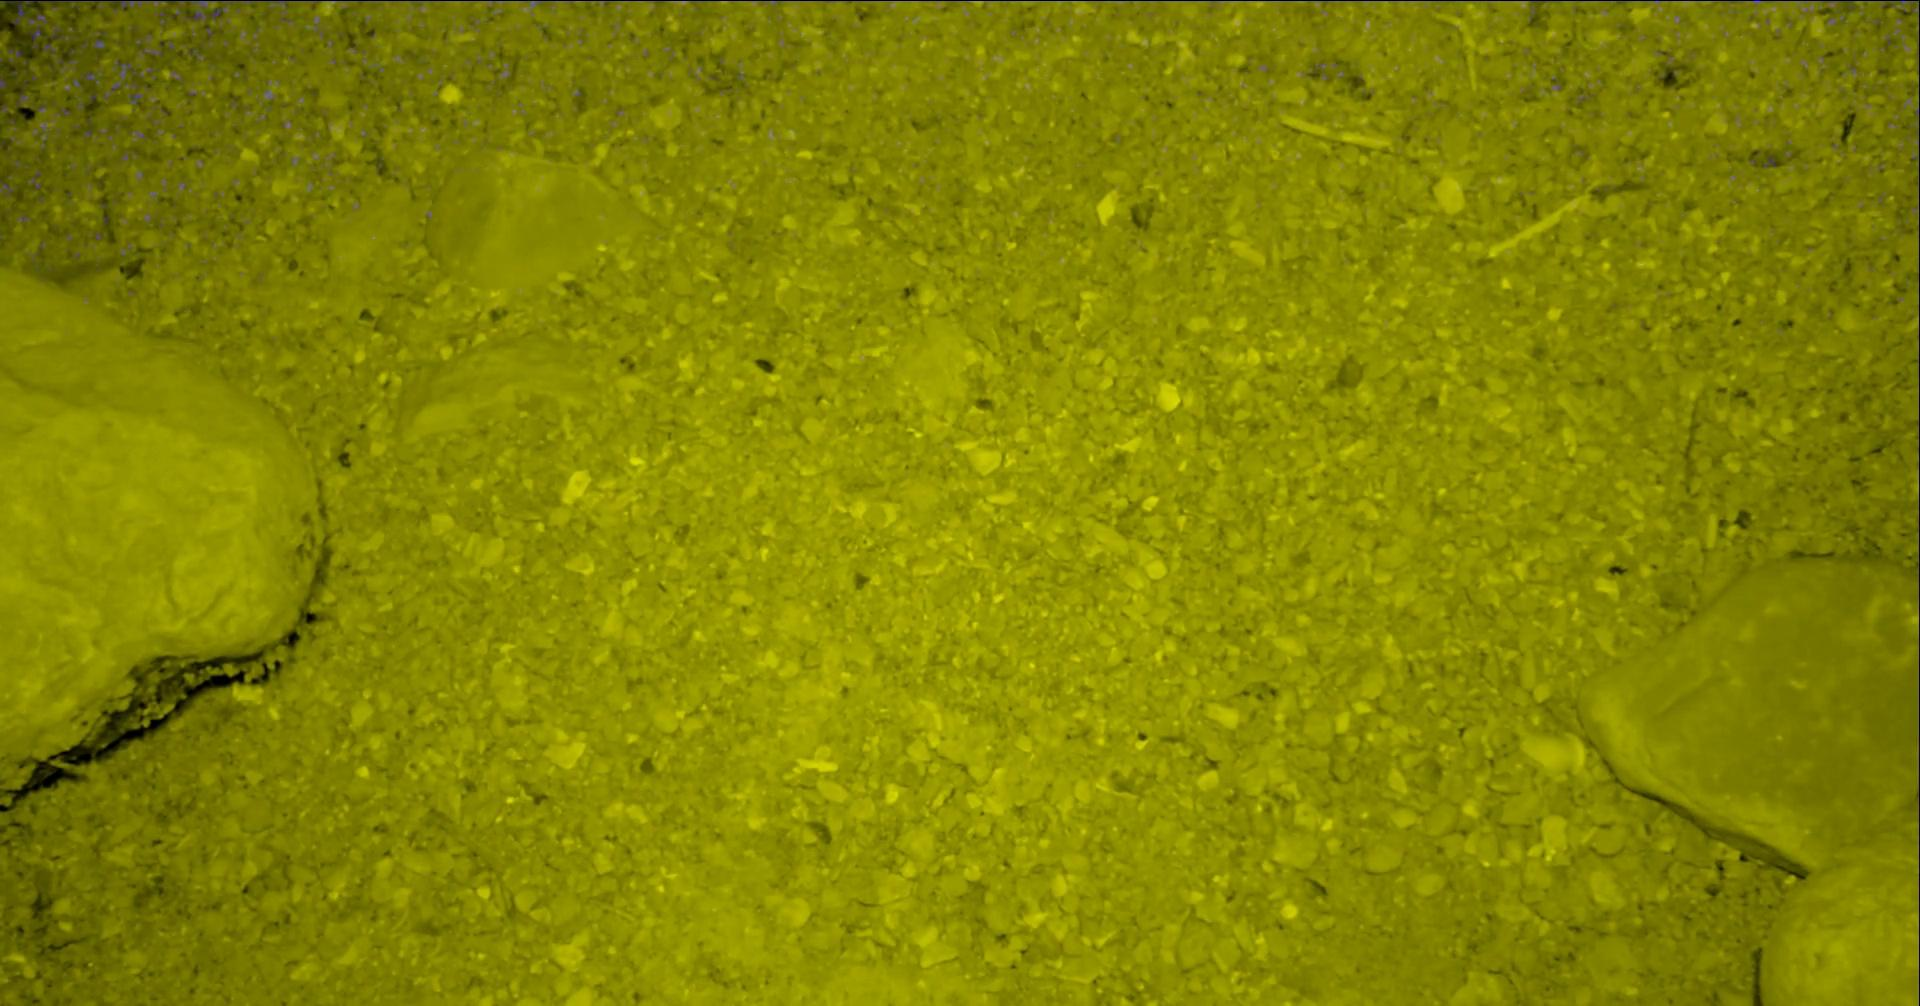ant: (105, 58, 141, 99), (1882, 0, 1920, 24), (1911, 108, 1920, 191), (30, 11, 47, 47), (75, 71, 103, 86), (53, 25, 70, 39), (130, 91, 145, 104), (1, 183, 15, 196)
